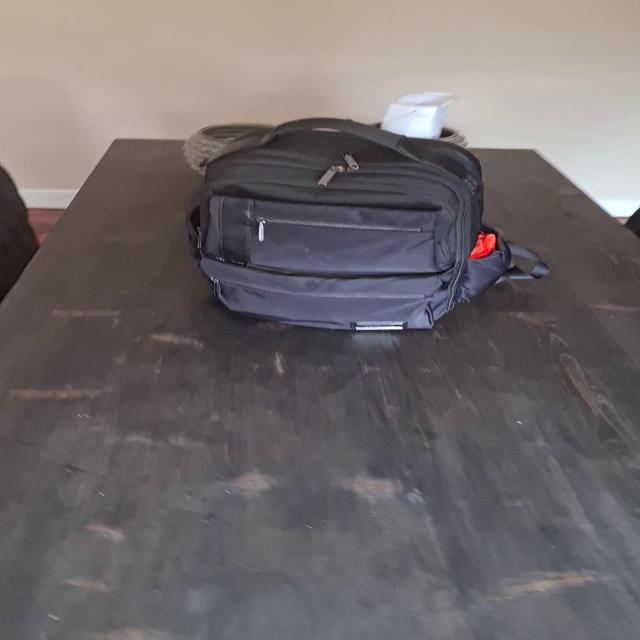backpack: (171, 103, 516, 338)
